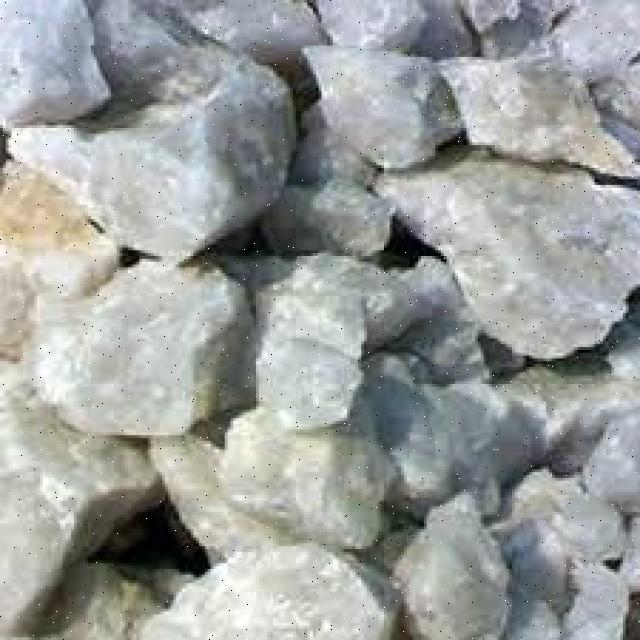Metamorphic: (3, 3, 631, 634)
